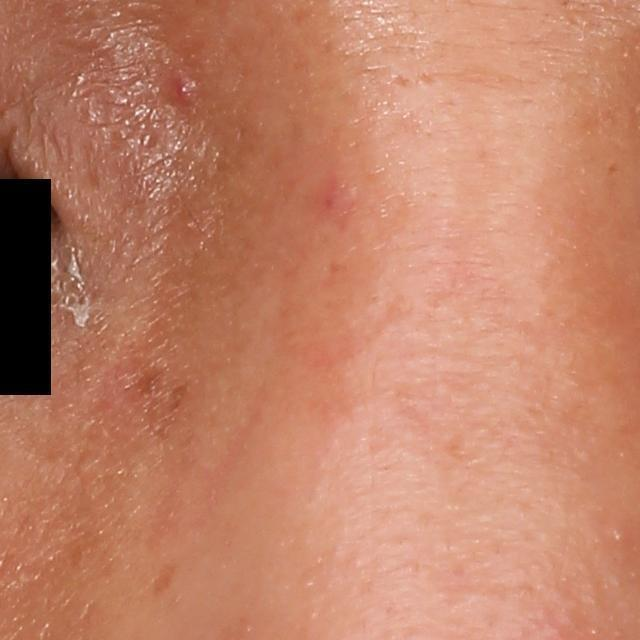melasma: (128, 357, 192, 421), (151, 556, 183, 592)
